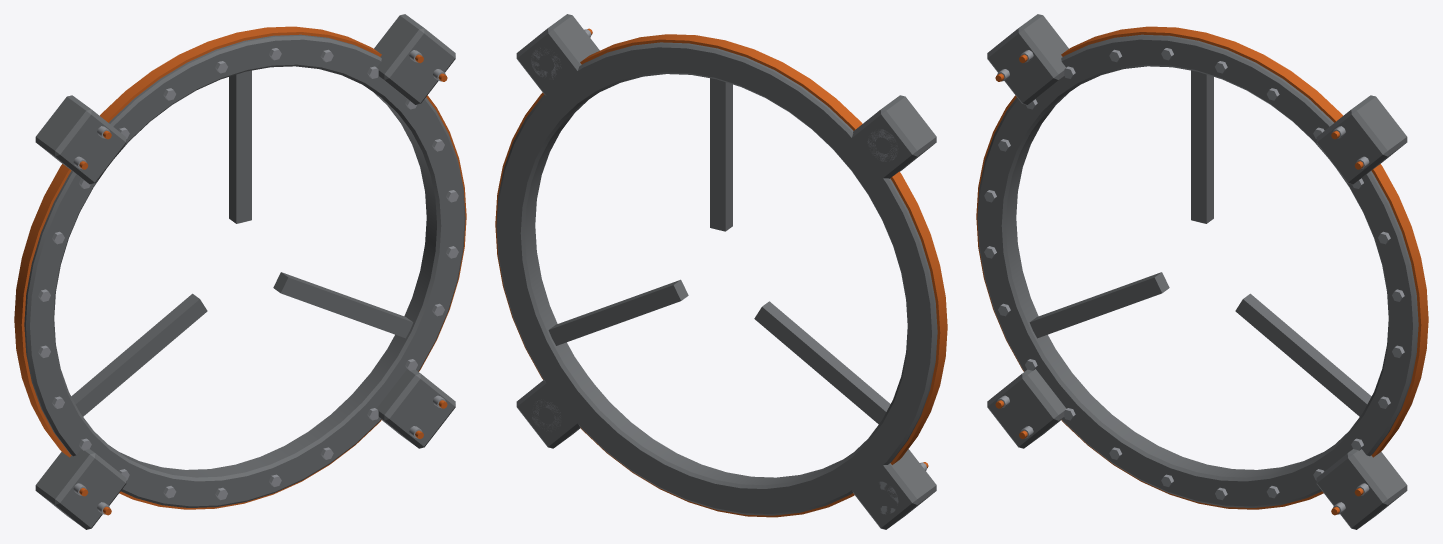
Rendered from u65m_flange.obj.
3 renders of one model, left to right at view 1: azimuth 30°, elevation 25°; view 2: azimuth 150°, elevation 25°; view 3: azimuth 330°, elevation 25°, orthographic.
Parts seen in each view (by area): view 1: u65m_flange; view 2: u65m_flange; view 3: u65m_flange.
Part boxes in pixels (x1=…): u65m_flange: x1=14, y1=14, x2=466, y2=529; u65m_flange: x1=495, y1=14, x2=947, y2=529; u65m_flange: x1=976, y1=14, x2=1428, y2=529.
Size of the model in its own units: 3.44 by 3.44 by 0.415.
